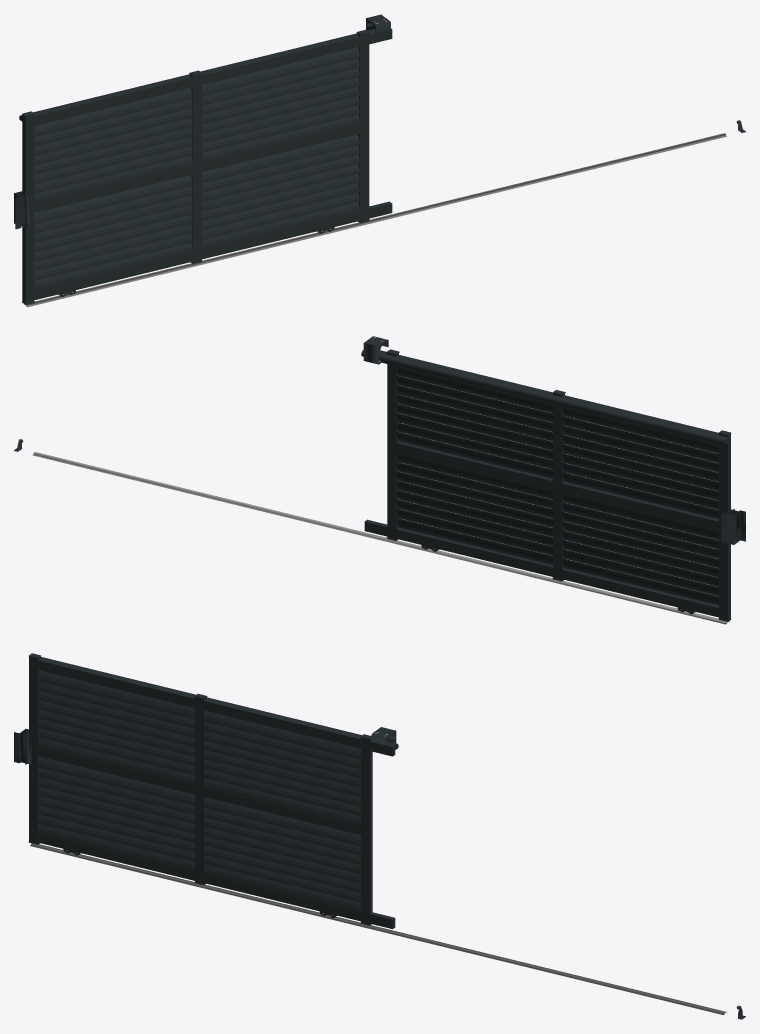
The picture shows the model from 3 angles, top to bottom: view 1: azimuth 30°, elevation 25°; view 2: azimuth 150°, elevation 25°; view 3: azimuth 330°, elevation 25°; orthographic projection.
Visible parts, largest first — view 1: Folha_1, phoenix; view 2: Folha_1, phoenix; view 3: Folha_1, phoenix.
Part boxes in pixels (<box>): Folha_1: <box>19,28,392,304</box>; phoenix: <box>14,14,745,307</box>; Folha_1: <box>361,349,731,621</box>; phoenix: <box>14,336,745,624</box>; Folha_1: <box>28,653,398,929</box>; phoenix: <box>14,727,745,1019</box>.
Size of the model in its own units: 638 by 166 by 15.07.
1 material, 1 textured.
